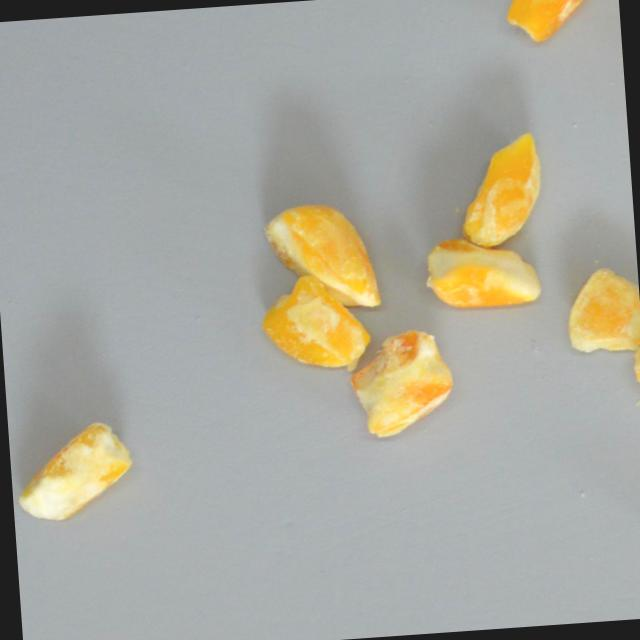dañado: (256, 194, 387, 316), (339, 324, 463, 446), (9, 416, 139, 527), (252, 269, 377, 380), (454, 128, 548, 250), (418, 231, 542, 313), (501, 0, 609, 44), (622, 301, 640, 410)
pelicula: (561, 260, 640, 359)
